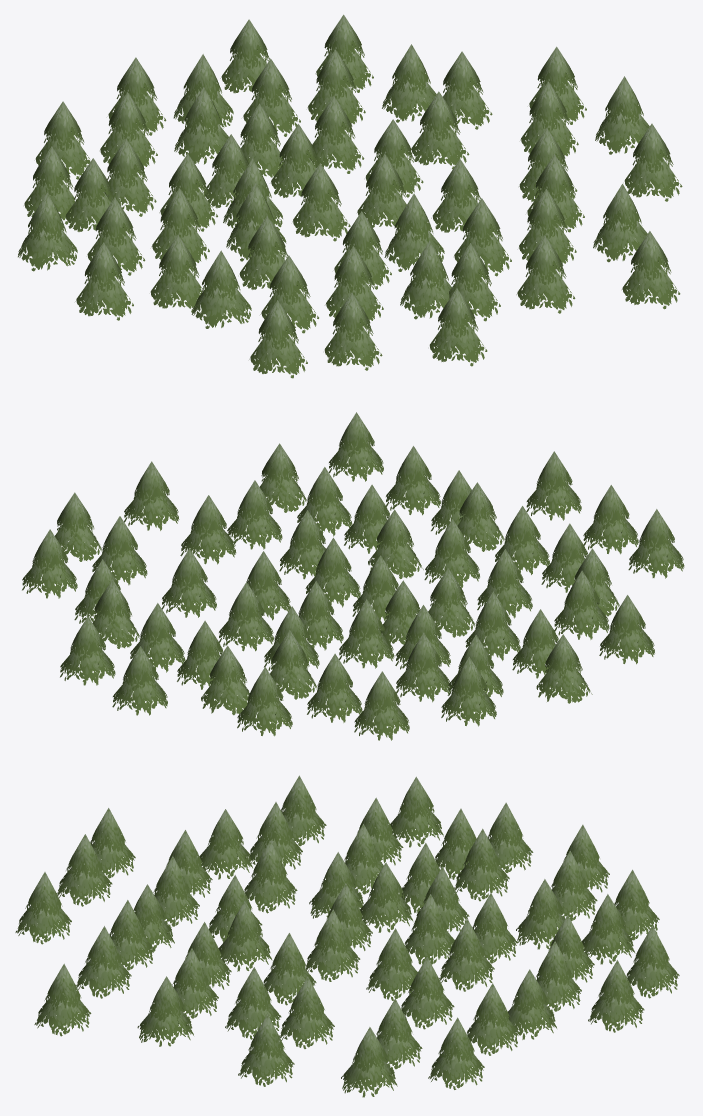
Rendered from SM_Forest.fbx.
The picture shows the model from 3 angles, top to bottom: view 1: azimuth 30°, elevation 25°; view 2: azimuth 150°, elevation 25°; view 3: azimuth 270°, elevation 25°; orthographic projection. The views are drawn at different scales.
Visible parts, largest first — view 1: SM_Trees; view 2: SM_Trees; view 3: SM_Trees.
Part boxes in pixels (x1,y1,x2,y2): SM_Trees: (18, 14, 682, 378); SM_Trees: (22, 412, 684, 740); SM_Trees: (15, 775, 679, 1097).
Size of the model in its own units: 91.48 by 9.72 by 92.86.
